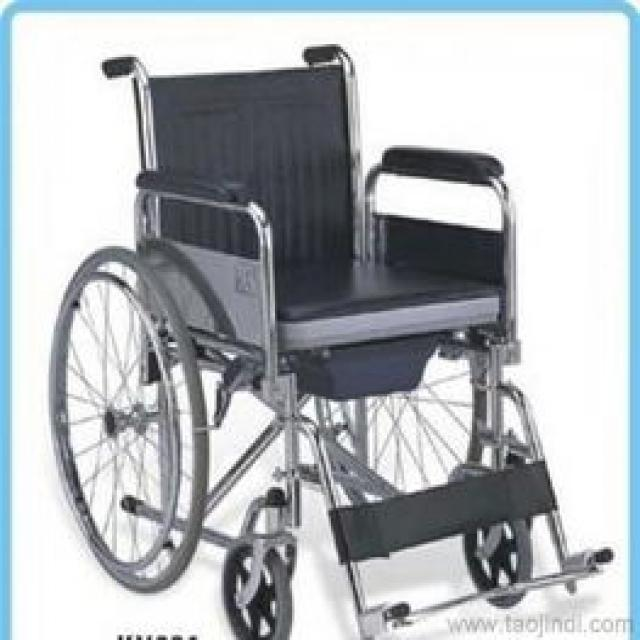wheelchair: (39, 36, 630, 635)
